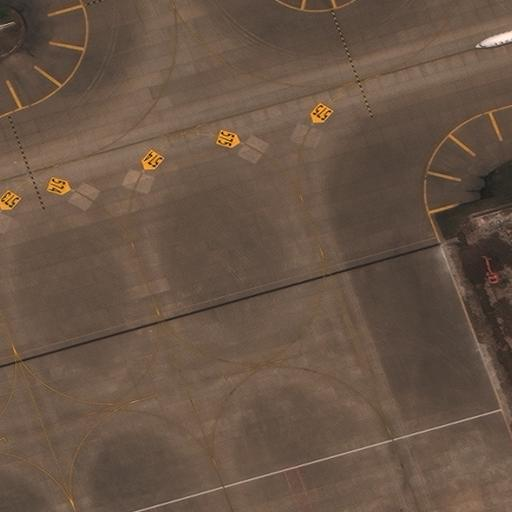Medium Civil Transport: (474, 0, 512, 57)
